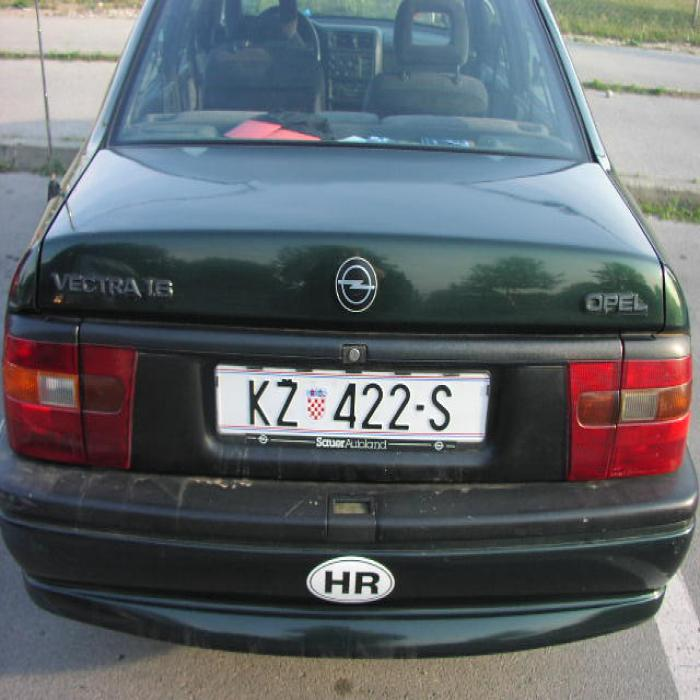number_plate: (215, 368, 484, 436)
